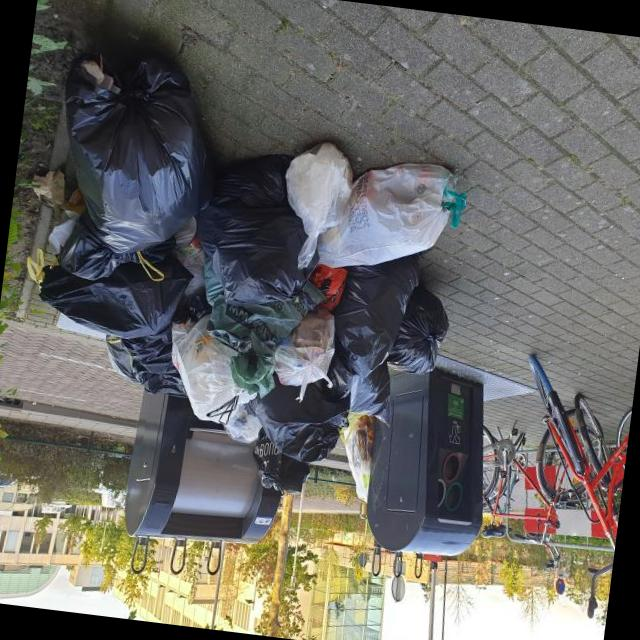high trash: (28, 57, 466, 491)
